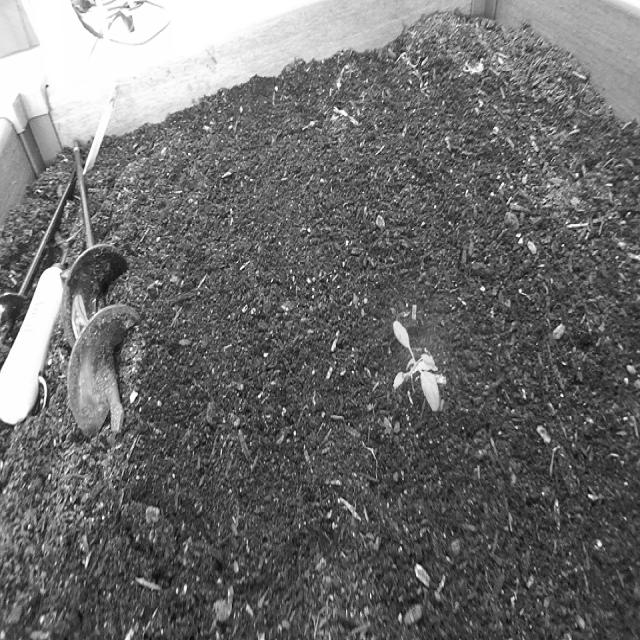Healthy: (388, 319, 444, 415)
